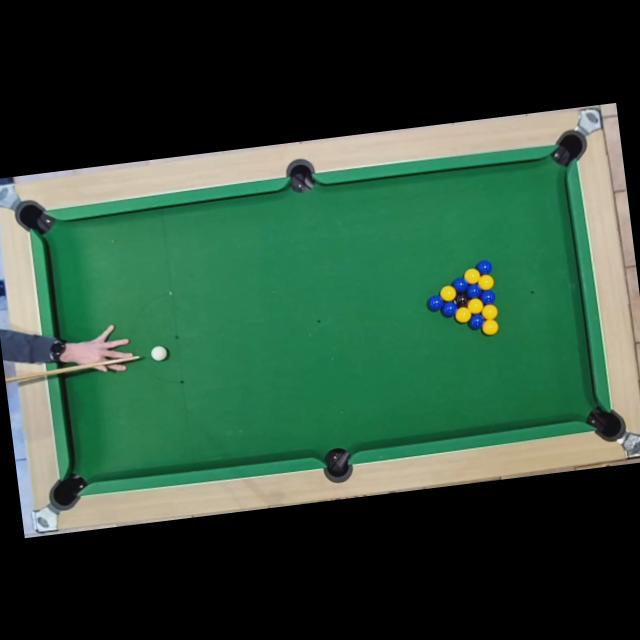Ball: (426, 294, 444, 312), (149, 344, 167, 362), (464, 267, 481, 285), (476, 273, 494, 290), (475, 258, 492, 275), (481, 303, 499, 319), (481, 320, 499, 336), (439, 285, 456, 301), (442, 300, 458, 316), (452, 276, 468, 292), (454, 306, 470, 322), (468, 297, 483, 313), (454, 292, 469, 308), (481, 289, 496, 304), (469, 314, 484, 328), (468, 284, 482, 298)
